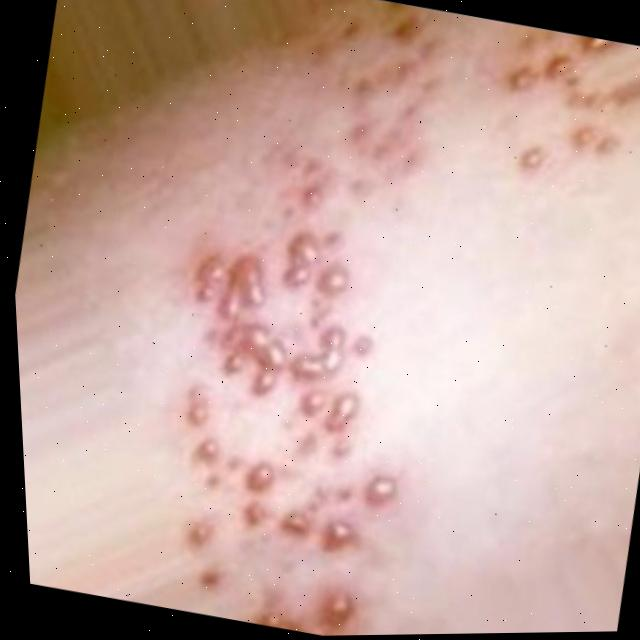Shingles: (113, 0, 503, 638), (482, 22, 640, 200)
